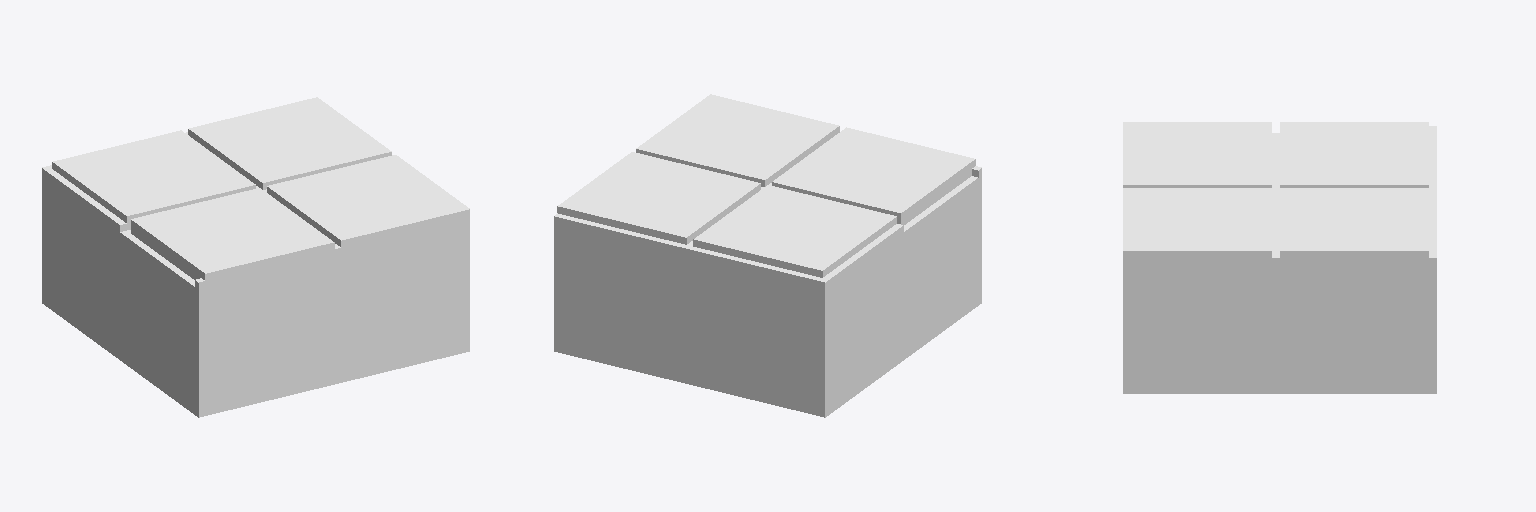
The model's file is cityBlock.obj.
3 renders of one model, left to right at view 1: azimuth 30°, elevation 25°; view 2: azimuth 150°, elevation 25°; view 3: azimuth 270°, elevation 25°, orthographic.
Parts seen in each view (by area): view 1: cityBlock; view 2: cityBlock; view 3: cityBlock.
Part boxes in pixels (bbox=[...]): cityBlock: bbox=[42, 97, 469, 417]; cityBlock: bbox=[554, 94, 981, 417]; cityBlock: bbox=[1123, 122, 1436, 393].
Bounding box in the file's own units: 40 × 20 × 40.